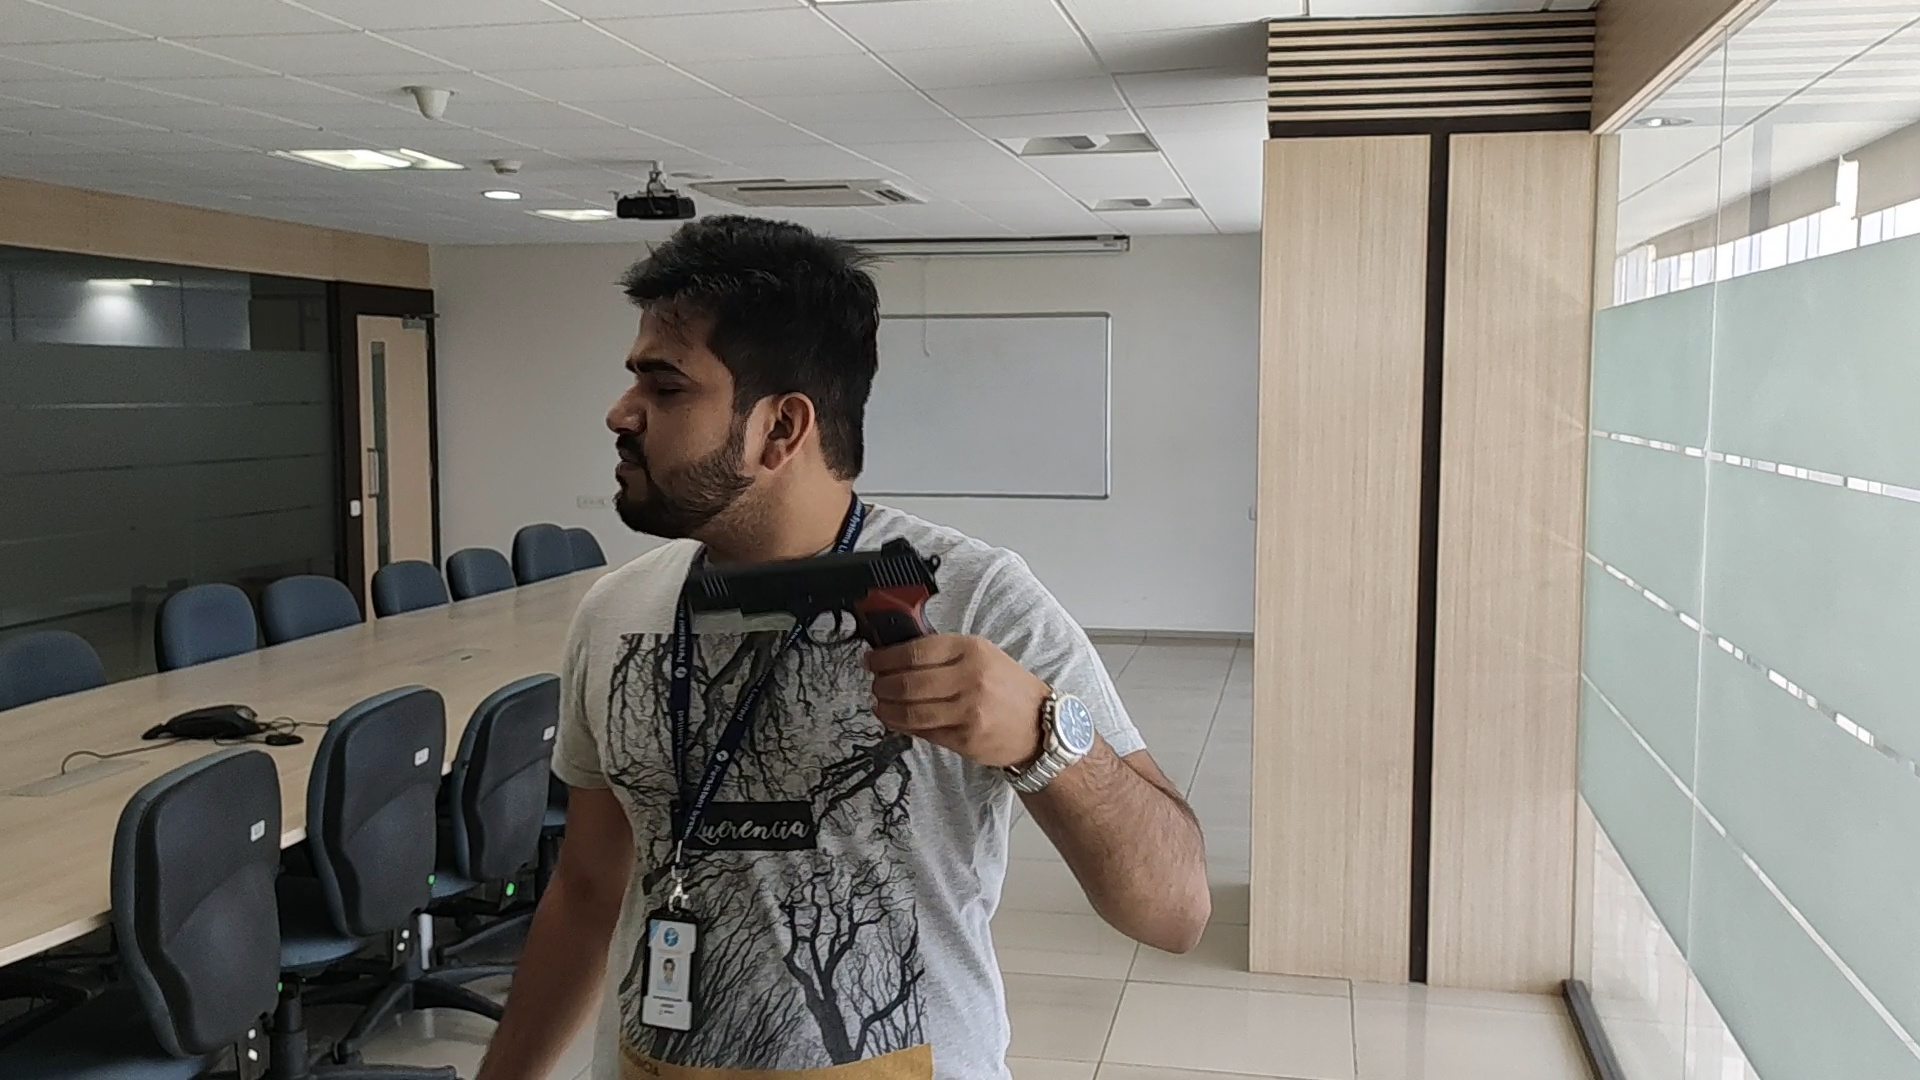gun: (690, 535, 943, 634)
